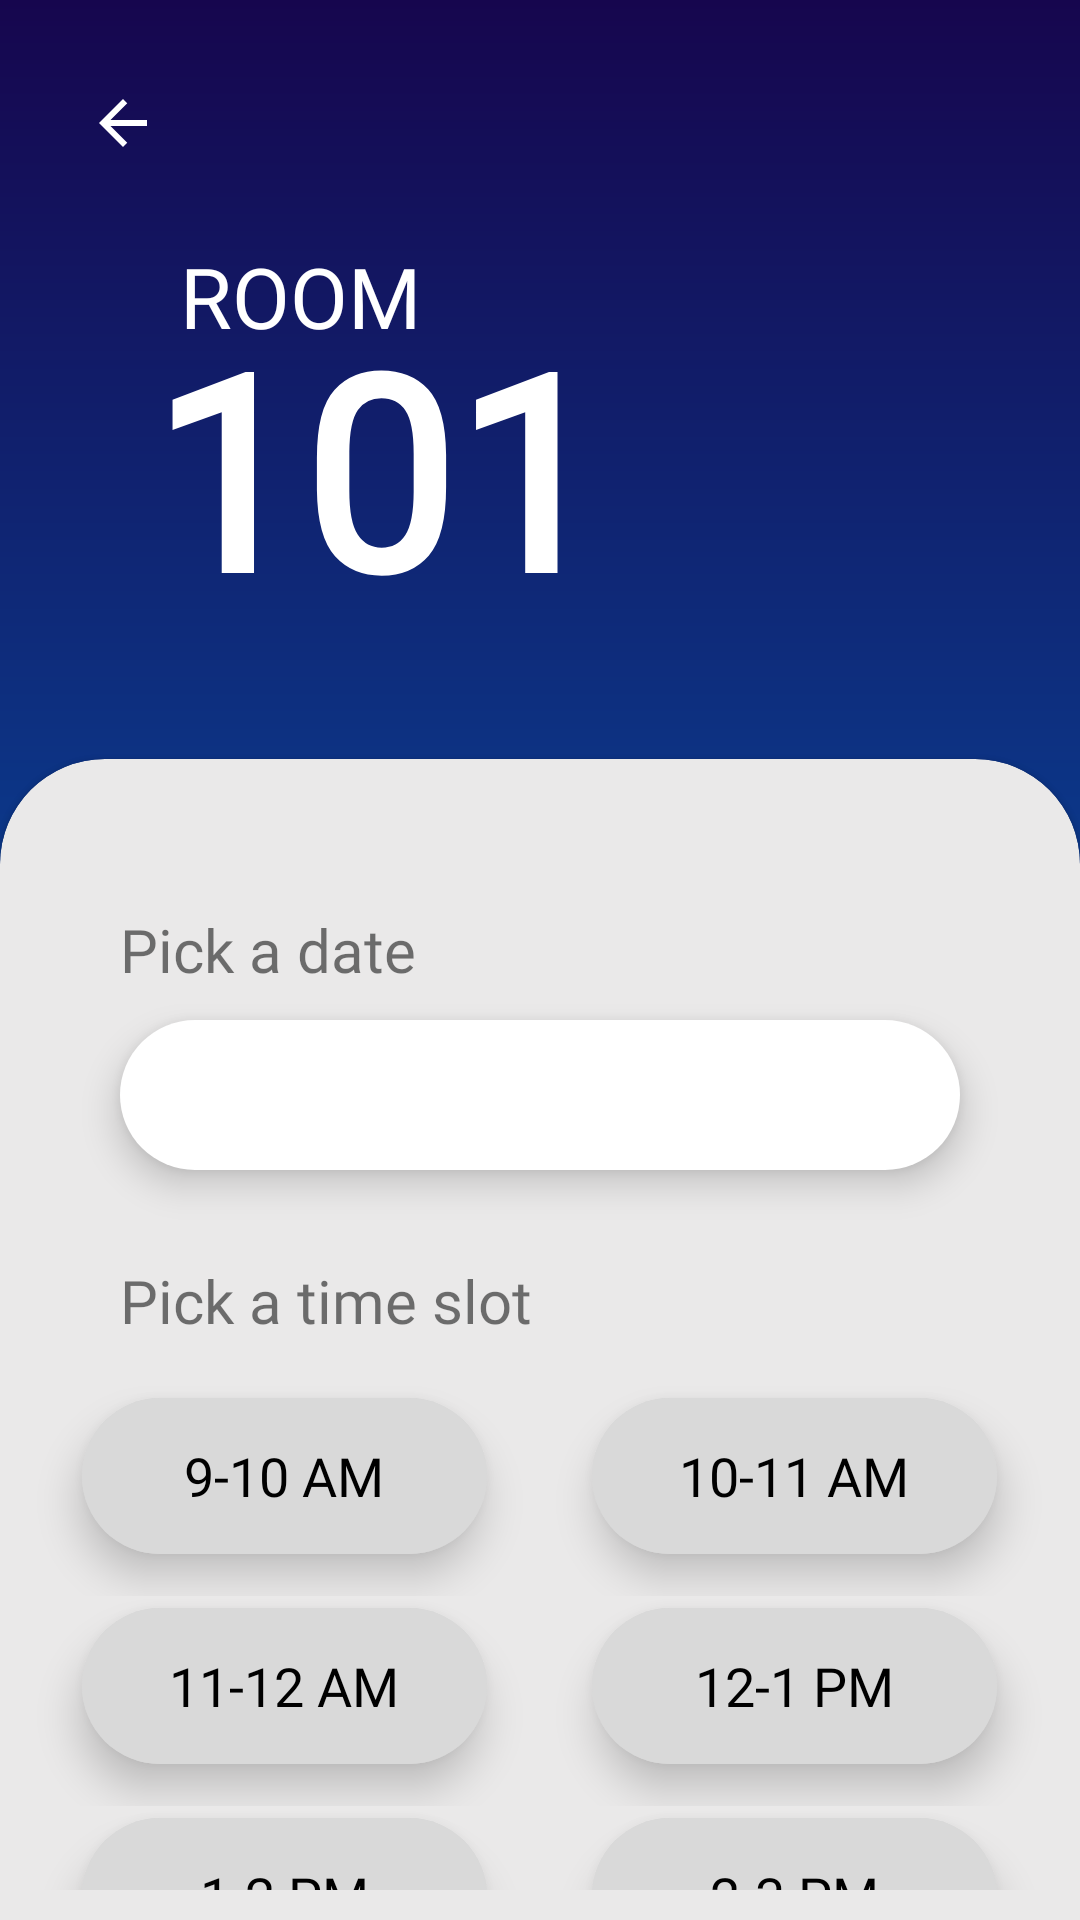

Icon bounding boxes for this 1080 x 1920 phone screenshot, format (x1, y1, x2, y2):
arrow back: (99, 99, 147, 147)
